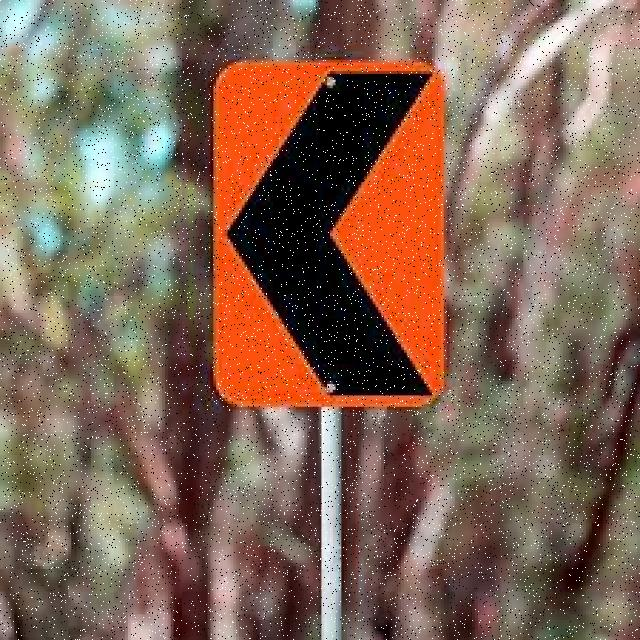chevron_left: (215, 65, 437, 408)
